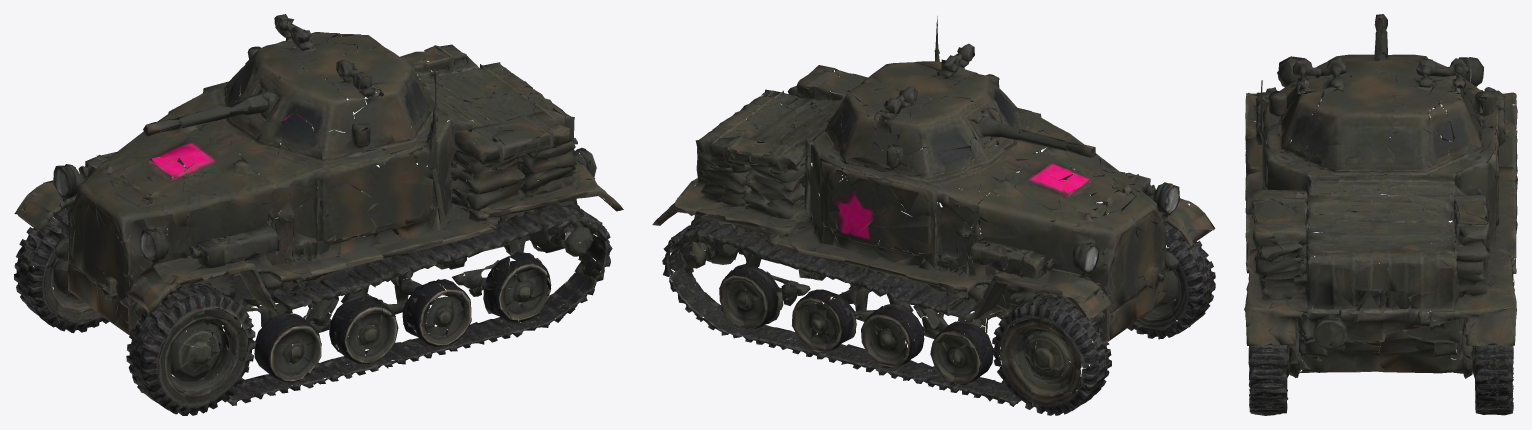
Rendered from flak_track.glb.
3 renders of one model, left to right at view 1: azimuth 30°, elevation 25°; view 2: azimuth 150°, elevation 25°; view 3: azimuth 270°, elevation 25°, orthographic. The views are drawn at different scales.
Visible parts, largest first — view 1: Mesh_0; view 2: Mesh_0; view 3: Mesh_0.
Part boxes in pixels (x1=…): Mesh_0: x1=14, y1=14, x2=623, y2=415; Mesh_0: x1=652, y1=16, x2=1215, y2=415; Mesh_0: x1=1244, y1=14, x2=1517, y2=415.
Size of the model in its own units: 1.9 by 1.06 by 0.9322.
1 material, 1 textured.
